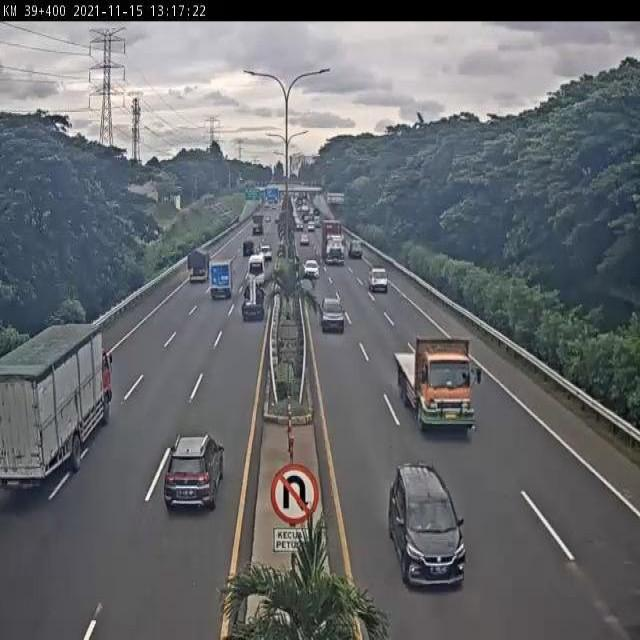bus-s-: (246, 252, 267, 285)
car: (388, 462, 468, 590), (164, 432, 226, 513), (320, 296, 346, 335), (302, 255, 322, 281)
truck-l-: (393, 337, 478, 436)
truck-m-: (0, 319, 113, 489)
truck-s-: (240, 277, 267, 323), (207, 259, 233, 304), (187, 246, 212, 286), (370, 266, 391, 294), (345, 237, 366, 260)
truck-xl-: (319, 217, 346, 268)
